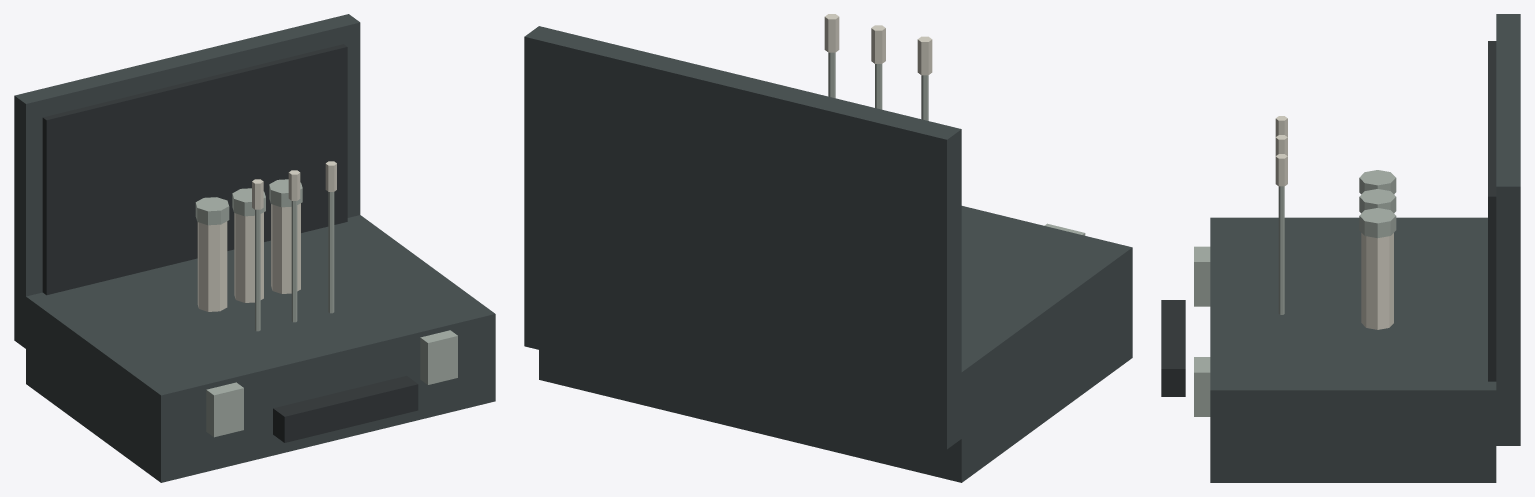
The model's file is blender_ectoplasm_sampler_1_open.glb.
3 views of the same model, side by side, from view 1: azimuth 30°, elevation 25°; view 2: azimuth 150°, elevation 25°; view 3: azimuth 270°, elevation 25° (orthographic). The views are drawn at different scales.
Visible parts, largest first — view 1: blender_ectoplasm_sampler_1_open; view 2: blender_ectoplasm_sampler_1_open; view 3: blender_ectoplasm_sampler_1_open.
Part boxes in pixels (box(x1,y1,x2,y2)): blender_ectoplasm_sampler_1_open: box(14, 14, 495, 482); blender_ectoplasm_sampler_1_open: box(524, 14, 1132, 482); blender_ectoplasm_sampler_1_open: box(1161, 14, 1520, 482).
Bounding box in the file's own units: 0.2 × 0.16 × 0.176.
1 material, 1 textured.
